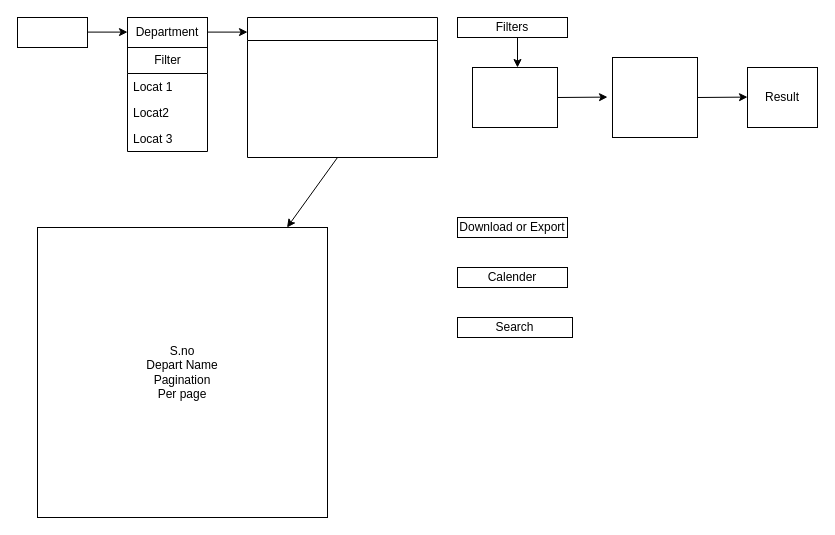
Some shapes in this 835 by 535 pixel diagram are drawn without their labels. Here are the shapes that lost their labels. From the top down, the centre of each, then its label:
At [52,32]: "Location".
At [342,87]: "Datas".
At [515,97]: "Highest and Lowest Dropdown".
At [655,97]: "Received or Submitted".
